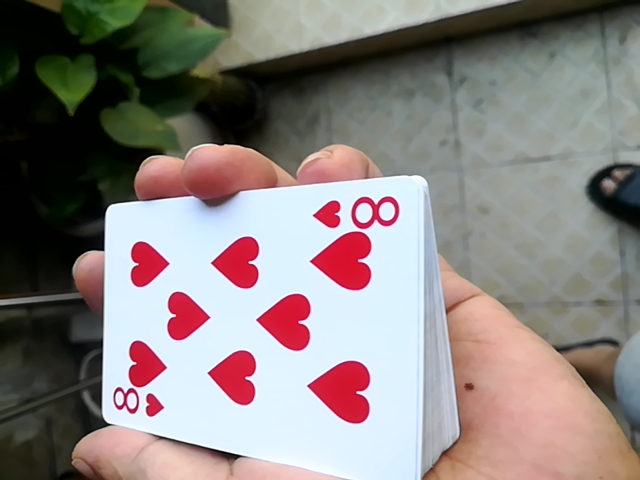hx 8: (91, 179, 424, 470)
